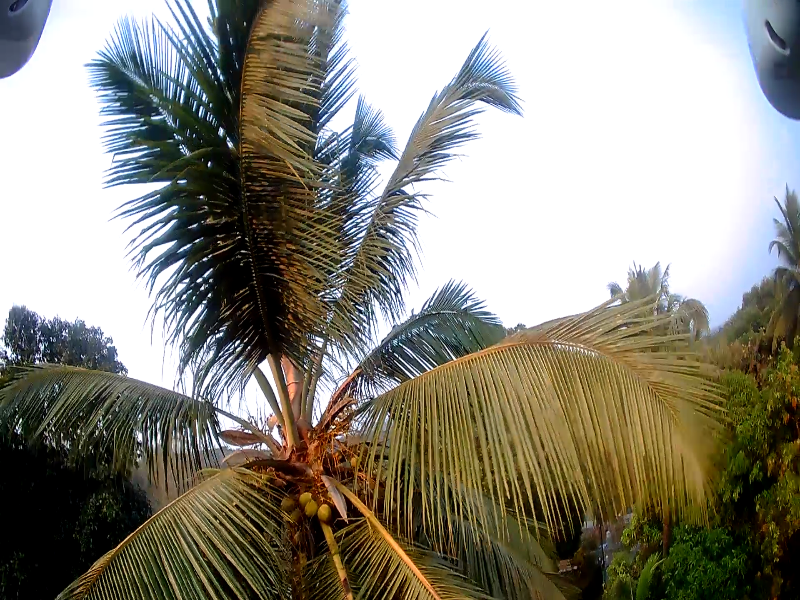coconut: (304, 500, 323, 510), (321, 503, 330, 522), (299, 487, 308, 503), (279, 495, 288, 507), (350, 453, 357, 468), (288, 510, 295, 520)
